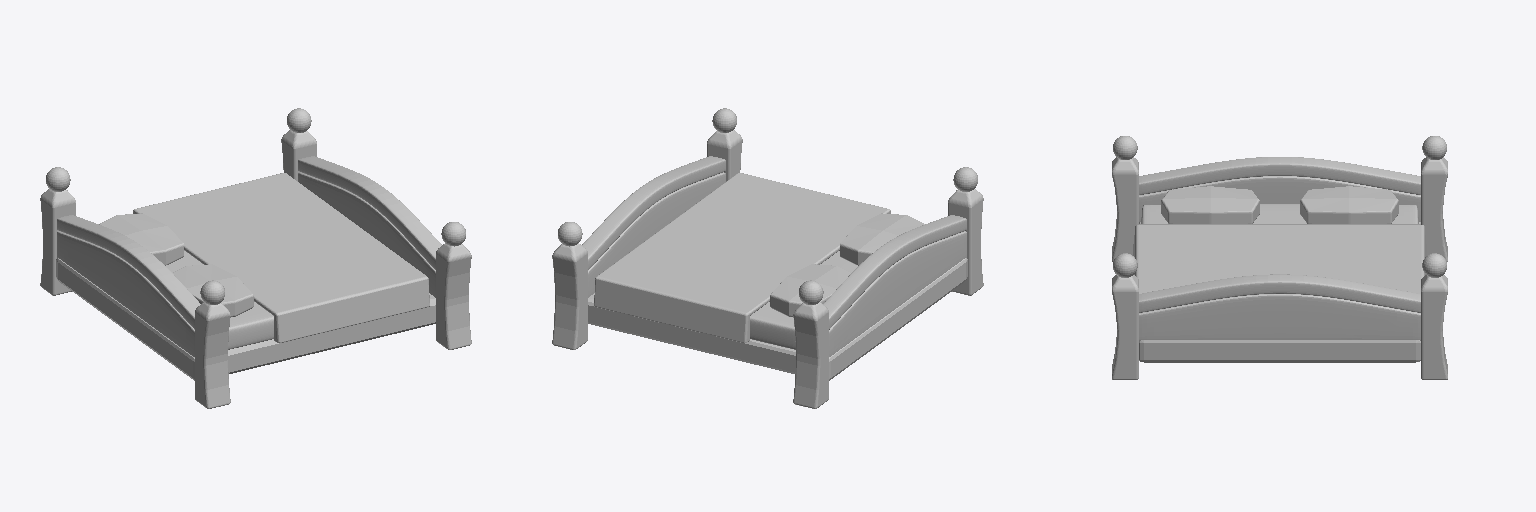
File: double_bed.obj
The picture shows the model from 3 angles: view 1: azimuth 30°, elevation 25°; view 2: azimuth 150°, elevation 25°; view 3: azimuth 270°, elevation 25°; orthographic projection.
Visible parts, largest first — view 1: double_bed; view 2: double_bed; view 3: double_bed.
Part boxes in pixels (x1,y1,x2,y2): double_bed: (40, 108, 471, 408); double_bed: (552, 108, 983, 408); double_bed: (1112, 136, 1447, 379).
Size of the model in its own units: 1.82 by 0.7934 by 2.